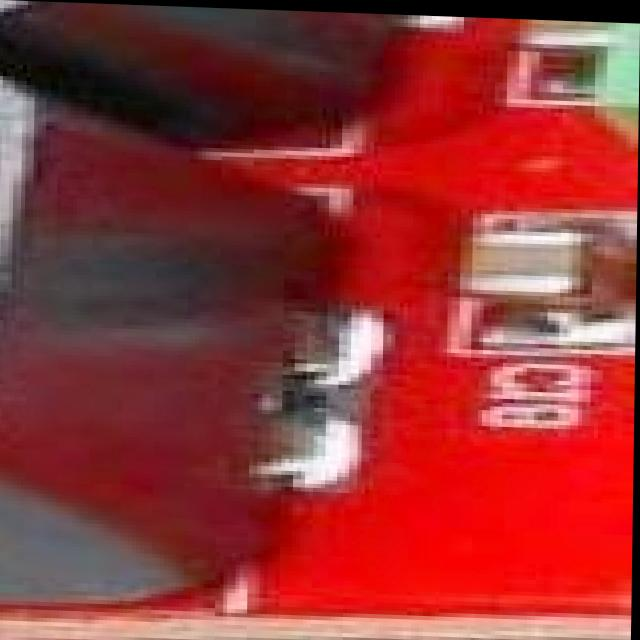capacitor: (394, 216, 610, 366), (503, 15, 616, 62)
inductor: (0, 60, 271, 608), (0, 0, 384, 99)
